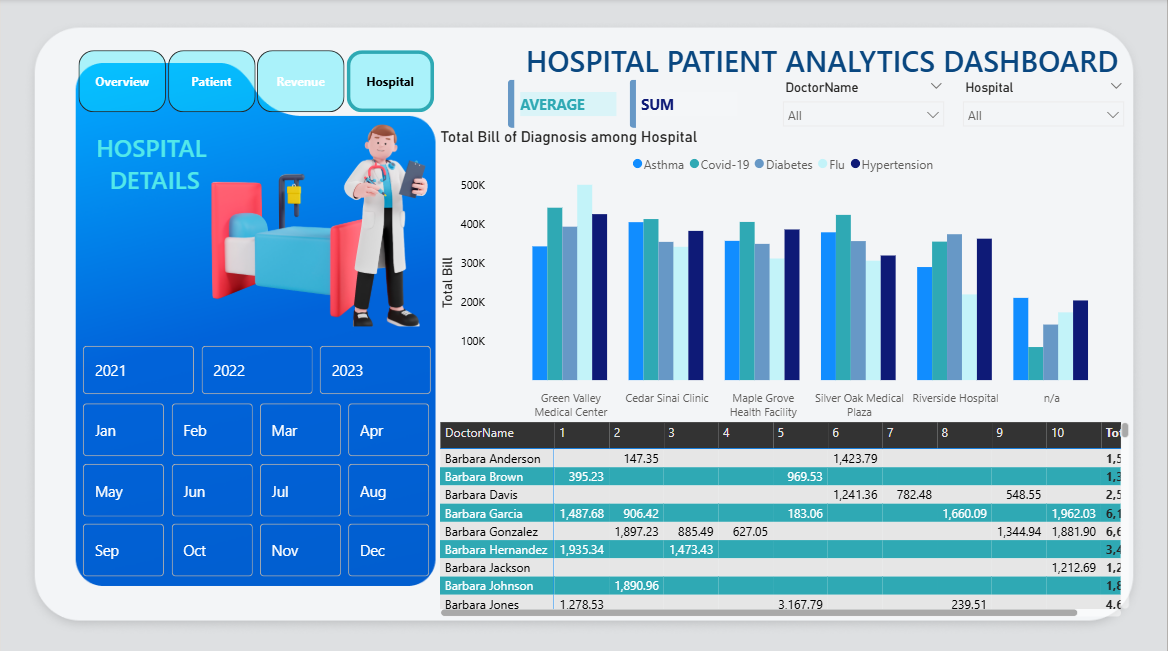

This screenshot's page, from the dashboard's own definition file:
{"tool":"powerbi","page":{"name":"Hospital","canvas":[1280,720],"ordinal":3},"visuals":[{"type":"cardVisual","fields":{"Data":["Avg(hospital1_clean.TotalBill)"]},"box":[59,97.4,432.2,277.2],"z":0},{"type":"textbox","box":[19.2,140,299.1,86.4],"z":1},{"type":"advancedSlicerVisual","fields":{"Values":["hospital1_clean.Year"]},"box":[85.1,376,392.5,63.1],"z":2},{"type":"advancedSlicerVisual","fields":{"Values":["hospital1_clean.Month"]},"box":[85.1,439.1,392.5,200.3],"z":3},{"type":"textbox","box":[537.9,41.2,727.3,52.1],"z":4},{"type":"slicer","fields":{"Values":["hospital2_clean.Hospital"]},"box":[1045.6,83.7,197.6,67.2],"z":5},{"type":"slicer","fields":{"Values":["hospital2_clean.DoctorName"]},"box":[848,83.7,197.6,57.6],"z":6},{"type":"pageNavigator","box":[85.1,56.3,392.5,68.6],"z":7},{"type":"clusteredColumnChart","title":"Total Bill of Diagnosis among Hospital","fields":{"Category":["hospital2_clean.Hospital"],"Series":["hospital1_clean.Diagnosis"],"Y":["hospital1_clean.SUM"]},"box":[477.5,141.3,765.7,328],"z":8},{"type":"advancedSlicerVisual","fields":{"Values":["Slicer_Option.Slicer_Option"]},"box":[551.6,83.7,275.8,63.1],"z":9},{"type":"pivotTable","title":"Total Bill of Diagnosis among Hospital","fields":{"Rows":["hospital2_clean.DoctorName"],"Columns":["hospital2_clean.RecoveryRating"],"Values":["Sum(hospital2_clean.DailyCost)"]},"box":[477.5,459.7,765.7,223.7],"z":10}]}

Visuals, with their boxes in screenshot pixels (x1, y1, x2, y2), scaled from the page's 1280x720 canvas onto the 1168x651 screenshot:
cardVisual - Avg(hospital1_clean.TotalBill): (54,88,448,339)
textbox: (18,127,290,205)
advancedSlicerVisual - hospital1_clean.Year: (78,340,436,397)
advancedSlicerVisual - hospital1_clean.Month: (78,397,436,578)
textbox: (491,37,1154,84)
slicer - hospital2_clean.Hospital: (954,76,1134,136)
slicer - hospital2_clean.DoctorName: (774,76,954,128)
pageNavigator: (78,51,436,113)
"Total Bill of Diagnosis among Hospital" clusteredColumnChart: (436,128,1134,424)
advancedSlicerVisual - Slicer_Option.Slicer_Option: (503,76,755,133)
"Total Bill of Diagnosis among Hospital" pivotTable: (436,416,1134,618)
